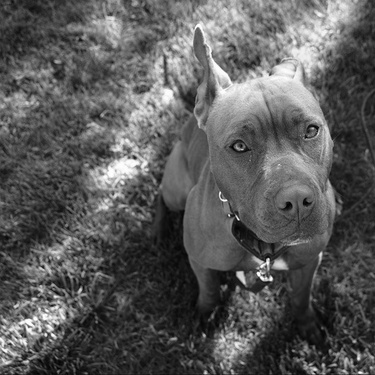dog: (154, 16, 344, 351)
